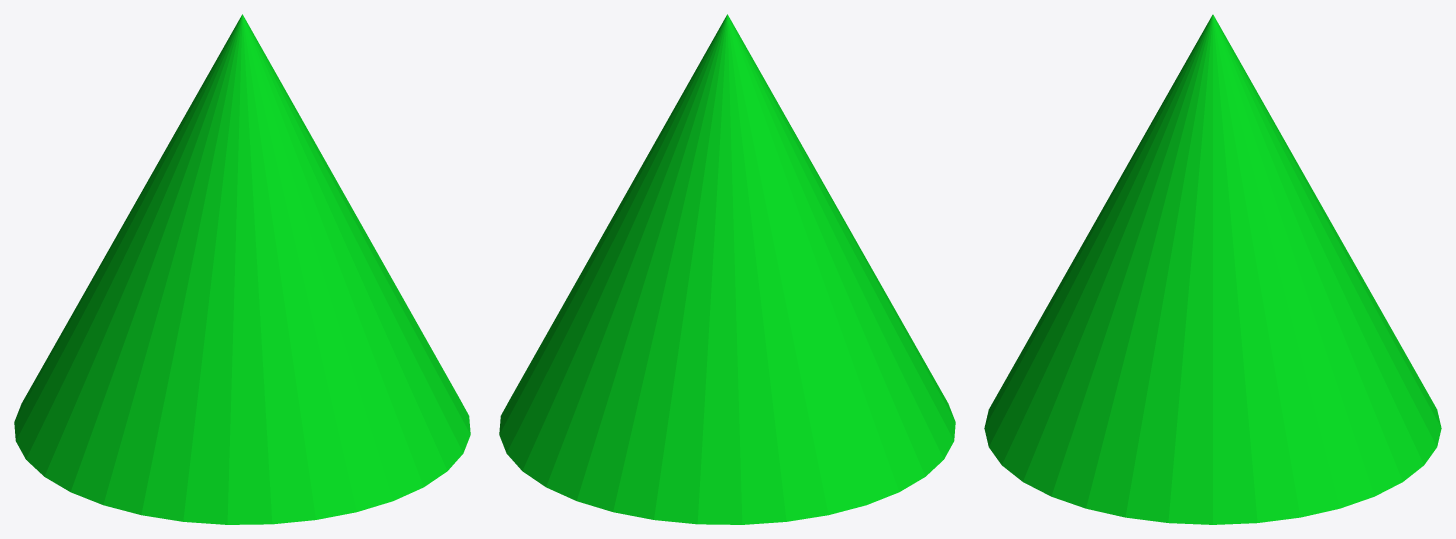
The model's file is cones.gltf.
3 renders of one model, left to right at view 1: azimuth 30°, elevation 25°; view 2: azimuth 150°, elevation 25°; view 3: azimuth 270°, elevation 25°, orthographic.
Visible parts, largest first — view 1: Cone; view 2: Cone; view 3: Cone.
Part boxes in pixels (left/top/right/bottom): Cone: left=14, top=14, right=470, bottom=524; Cone: left=499, top=14, right=955, bottom=524; Cone: left=984, top=14, right=1441, bottom=524.
Bounding box in the file's own units: 2 × 2 × 2.
